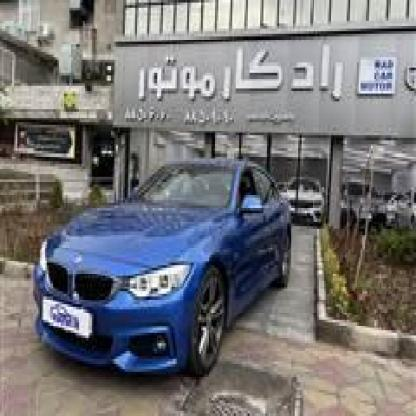Car: (33, 146, 295, 390), (276, 161, 329, 224), (343, 187, 390, 226)
